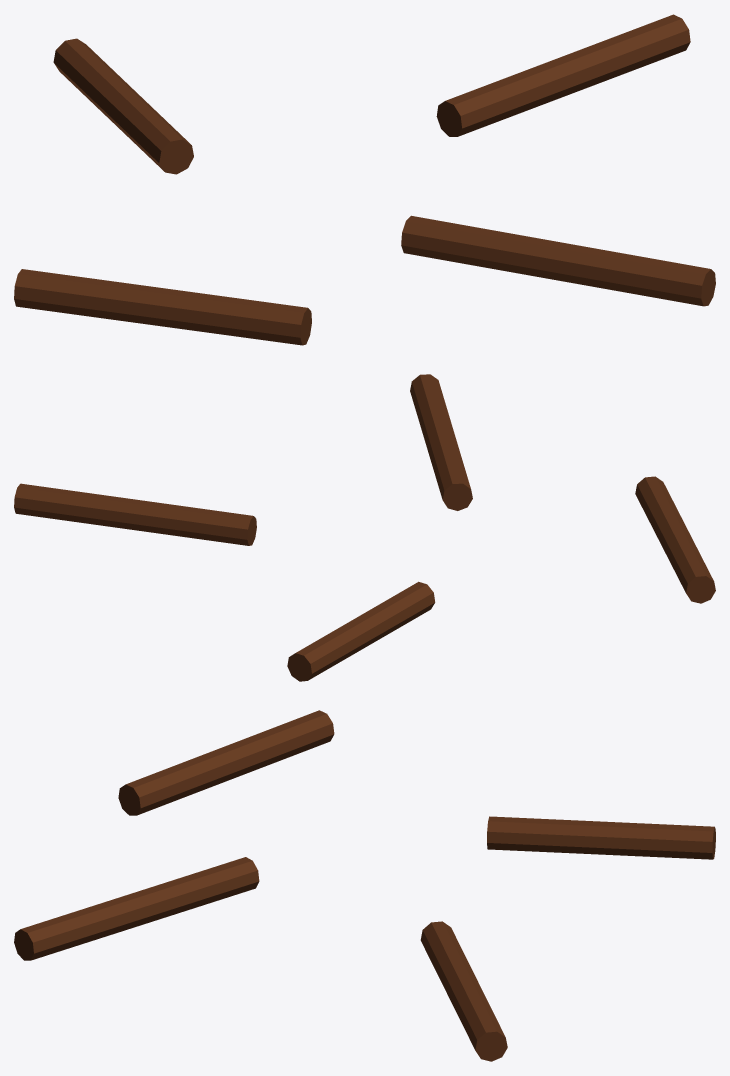
Rendered from Sticks(Pickup).fbx.
3 renders of one model, top to bottom at view 1: azimuth 30°, elevation 25°; view 2: azimuth 150°, elevation 25°; view 3: azimuth 270°, elevation 25°, orthographic. The views are drawn at different scales.
Parts seen in each view (by area): view 1: Sticks; view 2: Sticks; view 3: Sticks.
Part boxes in pixels (left/top/right/bottom): Sticks: left=14, top=14, right=715, bottom=345; Sticks: left=14, top=374, right=715, bottom=681; Sticks: left=14, top=710, right=715, bottom=1061.
Bounding box in the file's own units: 45.9 × 1.94 × 41.68.
